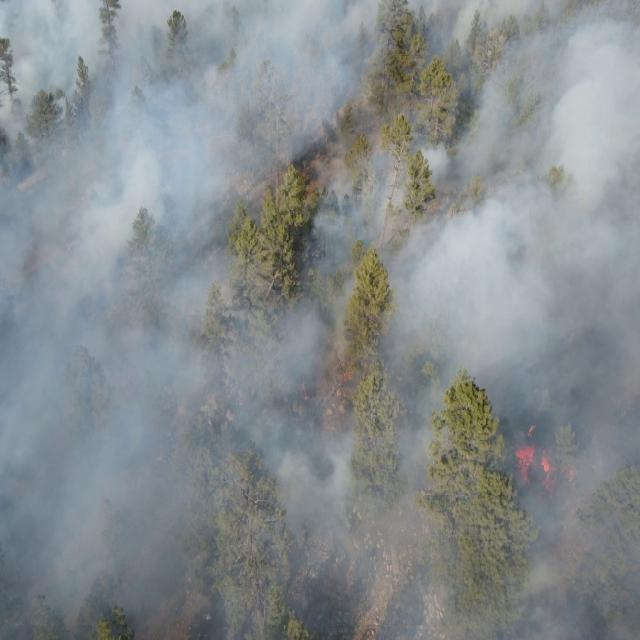fire: (509, 442, 578, 498), (294, 376, 314, 406), (338, 362, 355, 382), (525, 419, 539, 442)
smoke: (0, 0, 639, 640)
